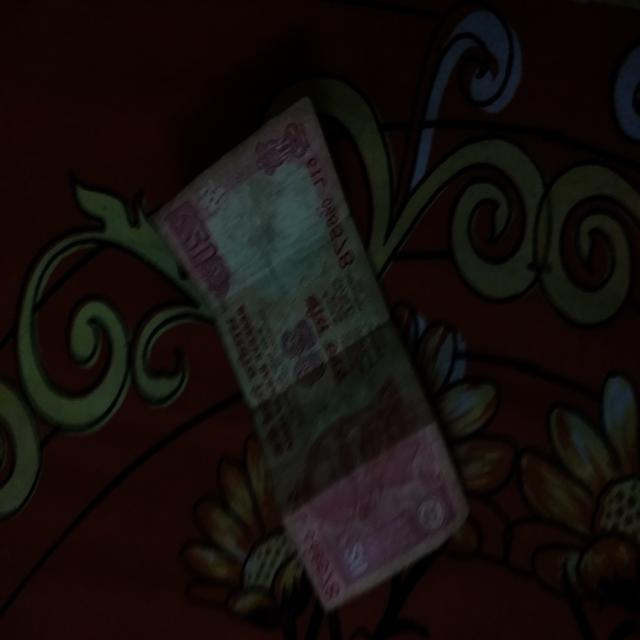20rs: (153, 94, 471, 613)
